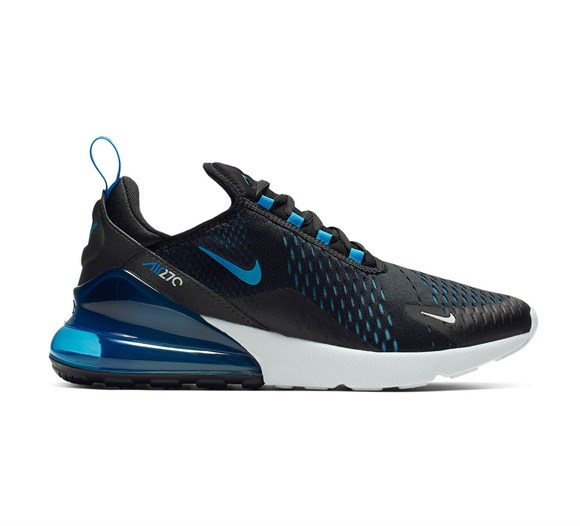nike: (192, 241, 265, 290), (419, 308, 459, 329)
